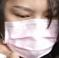with_mask: (1, 2, 59, 58)
